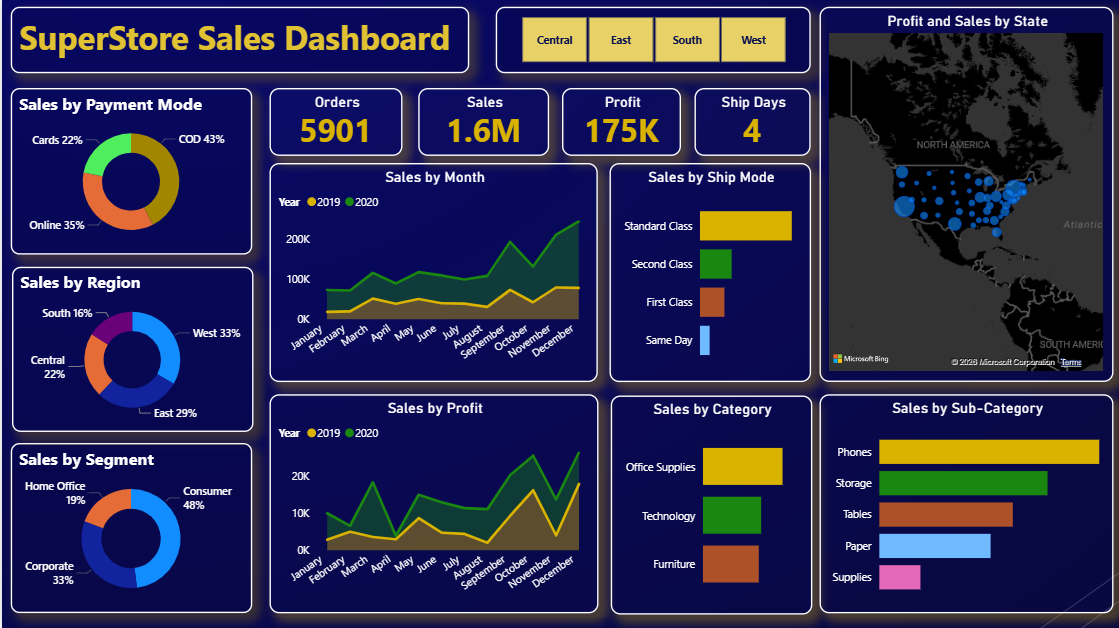

Layout of this report page (visuals, bound fields, positions):
{"tool":"powerbi","page":{"name":"Page 1","canvas":[1280,720],"ordinal":0},"visuals":[{"type":"textbox","box":[10,10,524.3,75.7],"z":0},{"type":"slicer","fields":{"Values":["Sheet1.Region"]},"box":[564.3,10,360,75.7],"z":1000},{"type":"donutChart","title":" Sales by Payment Mode","fields":{"Category":["Sheet1.Payment Mode"],"Y":["Sum(Sheet1.Sales)"]},"box":[10,102.9,275.7,190],"z":2000},{"type":"donutChart","title":"Sales by Segment","fields":{"Y":["Sum(Sheet1.Sales)"],"Category":["Sheet1.Segment"]},"box":[10,508.6,275.7,194.3],"z":3000},{"type":"donutChart","title":" Sales by Region","fields":{"Category":["Sheet1.Region"],"Y":["Sum(Sheet1.Sales)"]},"box":[11.4,307.1,275.7,188.6],"z":4000},{"type":"card","title":"Orders","fields":{"Values":["CountNonNull(Sheet1.Order ID)"]},"box":[305.5,103.1,152.1,77.3],"z":5000},{"type":"card","title":"Ship Days","fields":{"Values":["Avg(Sheet1.Avgdelivery)"]},"box":[791.4,103.1,132.5,77.3],"z":6000},{"type":"card","title":"Profit","fields":{"Values":["Sum(Sheet1.Profit)"]},"box":[640.5,103.1,136.2,77.3],"z":7000},{"type":"card","title":"Sales","fields":{"Values":["Sum(Sheet1.Sales)"]},"box":[476.1,103.1,149.7,77.3],"z":8000},{"type":"stackedAreaChart","title":"Sales by Month ","fields":{"Category":["Sheet1.Order Date.Variation.Date Hierarchy.Month","Sheet1.Order Date.Variation.Date Hierarchy.Year"],"Y":["Sum(Sheet1.Sales)"],"Series":["Sheet1.Order Date.Variation.Date Hierarchy.Year"]},"box":[305.5,189,375.5,250.3],"z":9000},{"type":"map","title":"Profit and Sales by State","fields":{"Category":["Sheet1.State"],"Size":["Sum(Sheet1.Sales)"]},"box":[934.3,10,335.7,428.6],"z":11000},{"type":"clusteredBarChart","title":"Sales by Ship Mode","fields":{"Y":["Sum(Sheet1.Sales)"],"Category":["Sheet1.Ship Mode"]},"box":[694.3,188.6,230,250],"z":12000},{"type":"clusteredBarChart","title":"Sales by Category","fields":{"Y":["Sum(Sheet1.Sales)"],"Category":["Sheet1.Category","Sheet1.Ship Mode"]},"box":[695.7,454.3,230,250],"z":13000},{"type":"clusteredBarChart","title":" Sales by Sub-Category","fields":{"Y":["Sum(Sheet1.Sales)"],"Category":["Sheet1.Sub-Category","Sheet1.Ship Mode"]},"box":[934.3,452.9,335.7,250],"z":14000},{"type":"stackedAreaChart","title":"Sales by Profit","fields":{"Category":["Sheet1.Order Date.Variation.Date Hierarchy.Month","Sheet1.Order Date.Variation.Date Hierarchy.Year"],"Series":["Sheet1.Order Date.Variation.Date Hierarchy.Year"],"Y":["Sum(Sheet1.Profit)"]},"box":[305.7,452.9,375.7,250],"z":14001}]}

Visuals, with their boxes in screenshot pixels (x1, y1, x2, y2), scaled from the page's 1280x720 canvas onto the 1119x628 screenshot:
textbox: [9,9,467,75]
slicer - Sheet1.Region: [493,9,808,75]
" Sales by Payment Mode" donutChart: [9,90,250,255]
"Sales by Segment" donutChart: [9,444,250,613]
" Sales by Region" donutChart: [10,268,251,432]
"Orders" card: [267,90,400,157]
"Ship Days" card: [692,90,808,157]
"Profit" card: [560,90,679,157]
"Sales" card: [416,90,547,157]
"Sales by Month " stackedAreaChart: [267,165,595,383]
"Profit and Sales by State" map: [817,9,1110,383]
"Sales by Ship Mode" clusteredBarChart: [607,165,808,383]
"Sales by Category" clusteredBarChart: [608,396,809,614]
" Sales by Sub-Category" clusteredBarChart: [817,395,1110,613]
"Sales by Profit" stackedAreaChart: [267,395,596,613]
